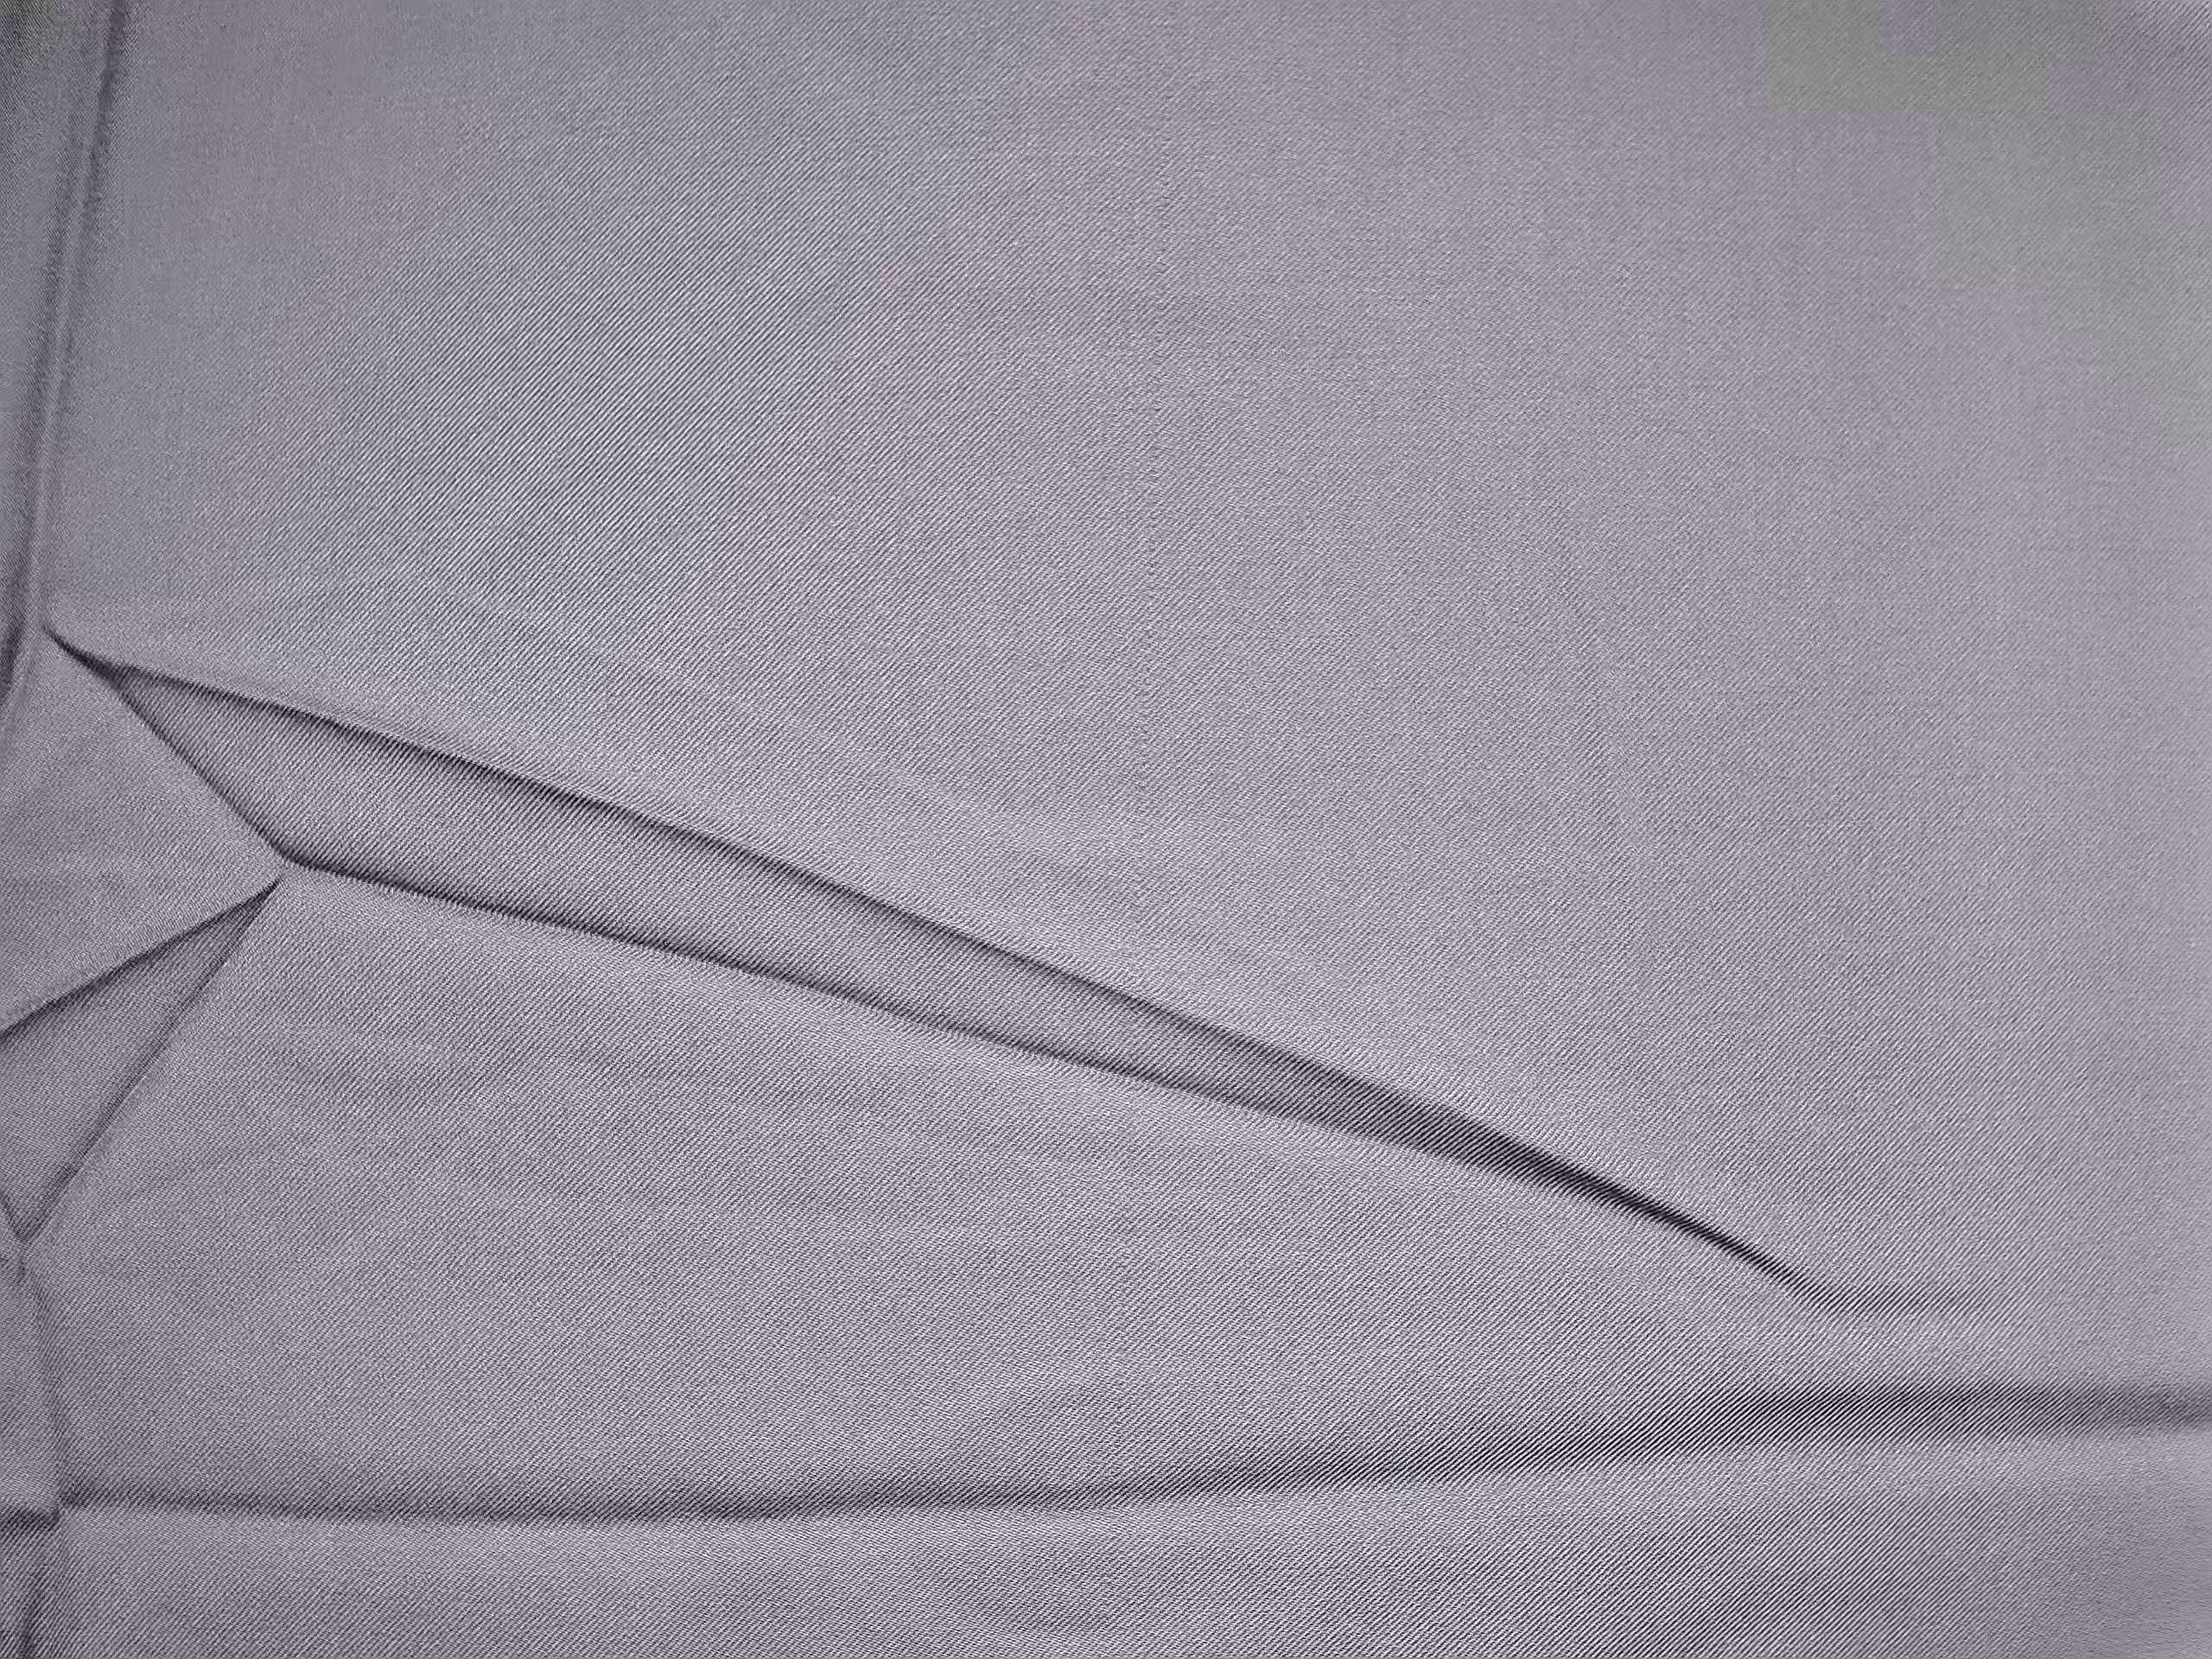hanging-warp: (1127, 207, 1183, 971)
